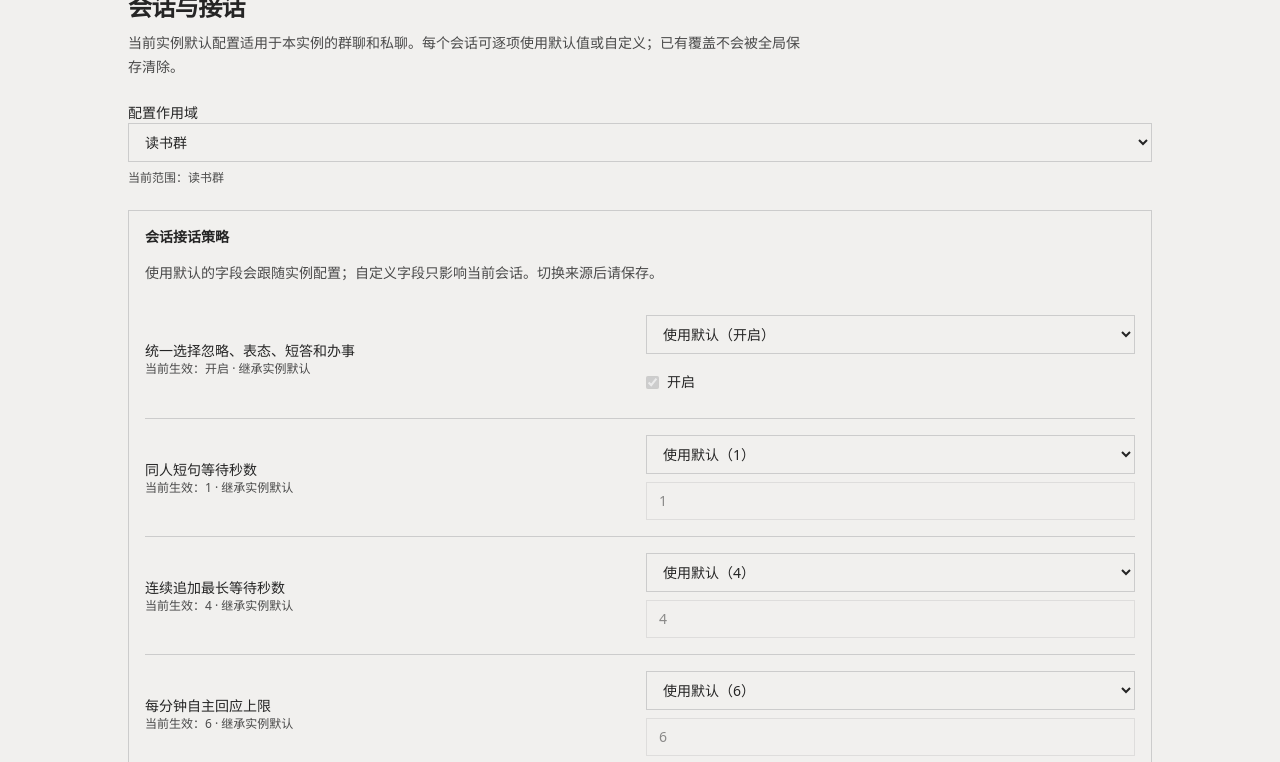
实例默认与逐项继承的读写合同 › 局部默认禁用继承字段，显式false/0是自定义而不是inherit
The width and height of the screenshot is (1280, 762).
expect the checkbox labelled "统一选择忽略、表态、短答和办事" is disabled: met, box [646, 376, 659, 388]
expect the field labelled "同人短句等待秒数" is disabled: met, box [646, 482, 1135, 520]
Select "自定义" in the 2nd dropdown: [890, 334] box [646, 315, 1135, 354]
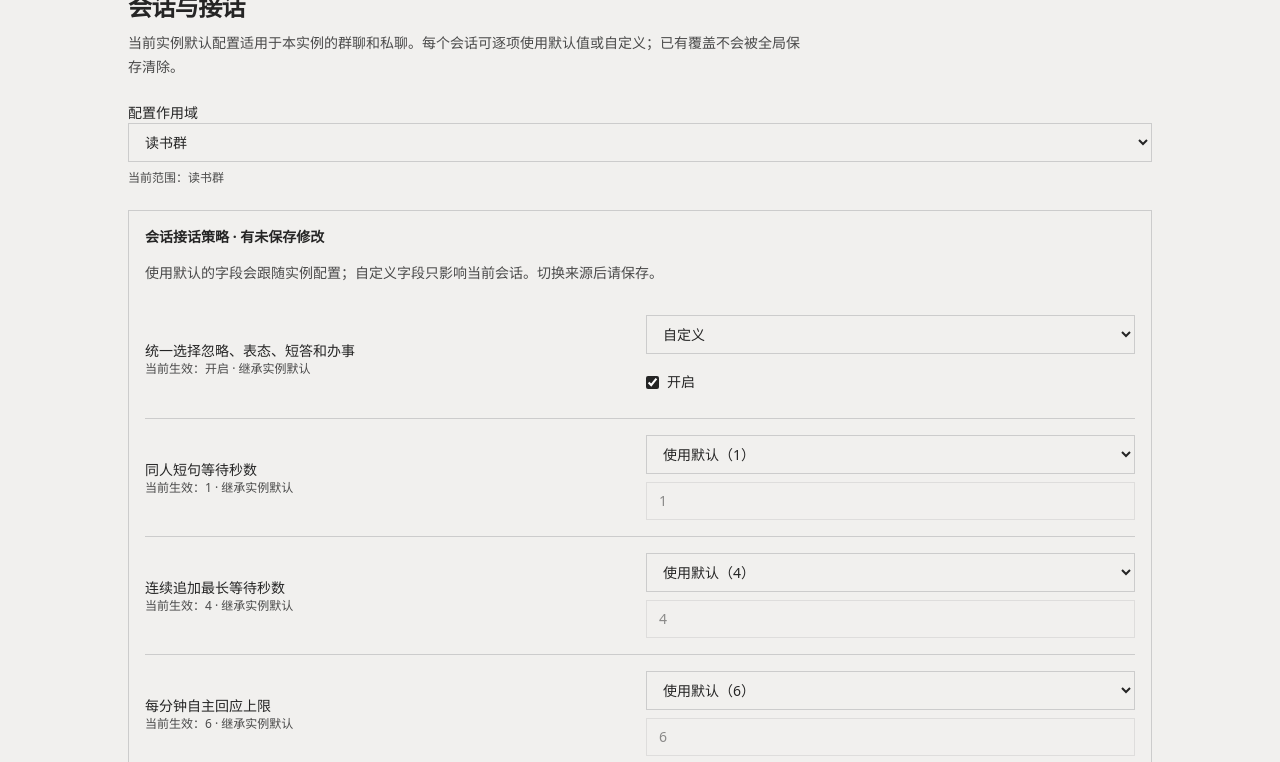
Click the checkbox labelled "统一选择忽略、表态、短答和办事": [652, 382] box [646, 376, 659, 388]
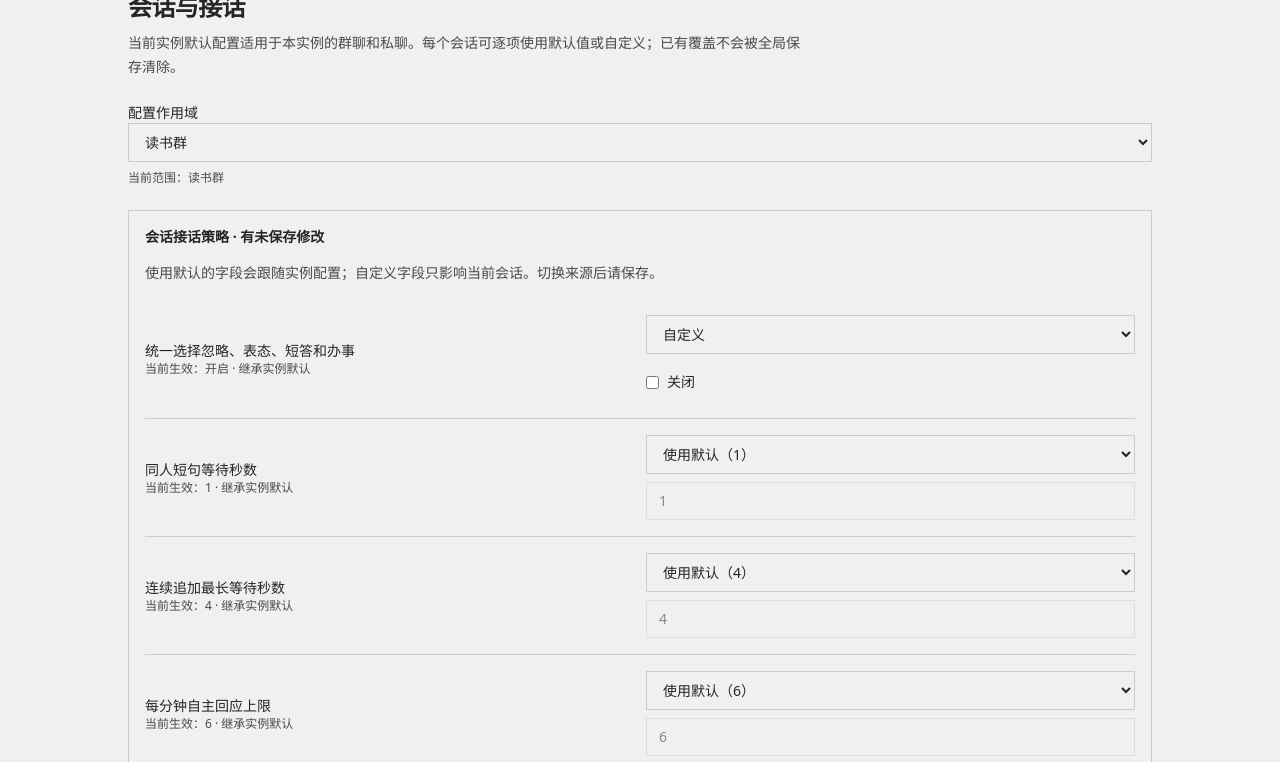
Select "自定义" in the 3rd dropdown: [890, 454] box [646, 435, 1135, 474]
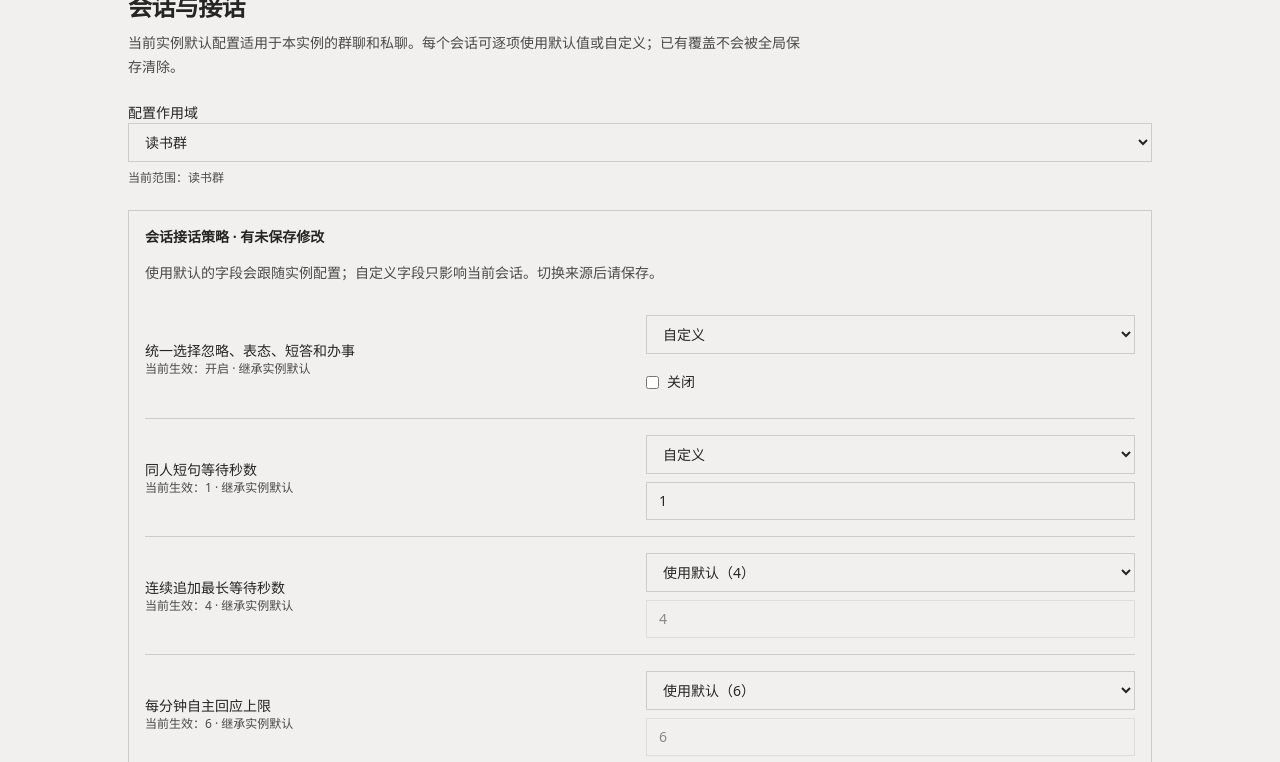
Replace the text in the field labelled "同人短句等待秒数" with "0": [890, 501] box [646, 482, 1135, 520]
(page scrolled)
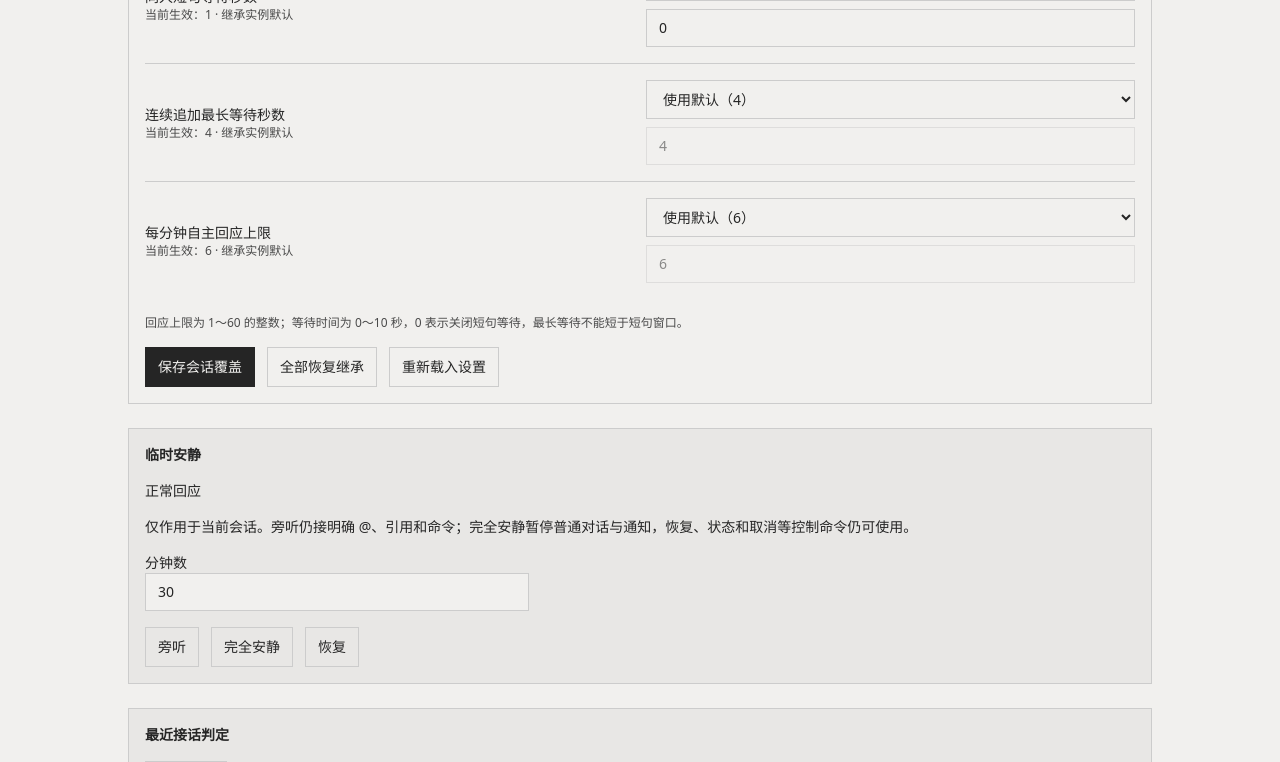
Click the button "保存会话覆盖": [200, 367] box [145, 347, 255, 387]
(page scrolled)
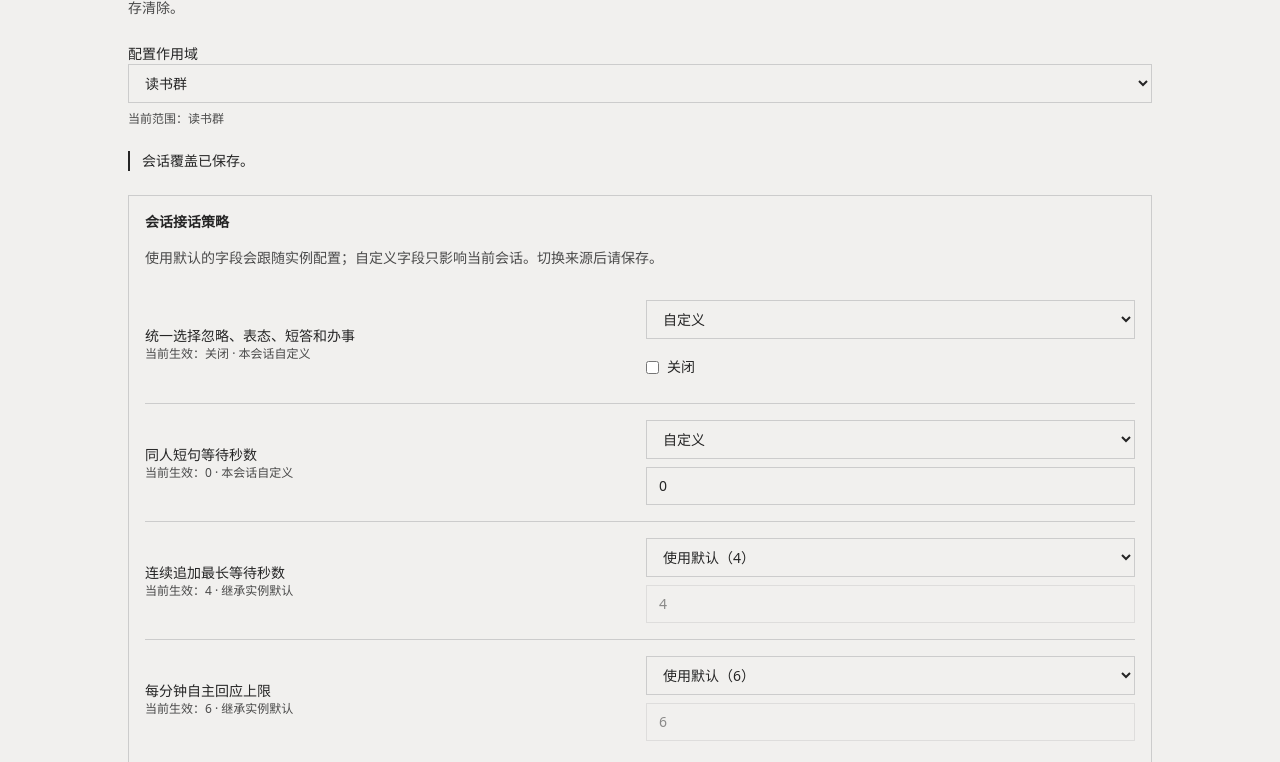
expect the checkbox labelled "统一选择忽略、表态、短答和办事" is not checked: met, box [646, 360, 659, 374]
expect the text "会话覆盖已保存。" is shown: met, box [128, 151, 1152, 171]
